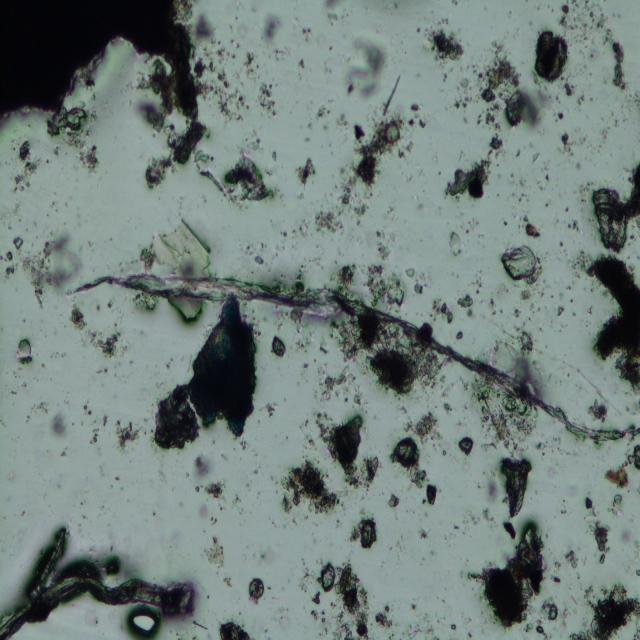Air bubble: (125, 606, 162, 636)
Background material: (0, 0, 204, 124), (467, 520, 549, 627), (581, 253, 640, 396), (338, 317, 440, 397), (335, 113, 408, 217), (469, 46, 538, 153), (192, 15, 248, 122), (314, 412, 380, 489), (468, 379, 539, 450), (145, 121, 209, 190), (313, 562, 371, 638), (591, 166, 640, 255), (138, 218, 212, 276), (564, 585, 640, 639), (224, 131, 276, 208), (26, 230, 80, 304), (277, 457, 341, 519), (152, 382, 199, 450), (390, 438, 436, 504), (496, 326, 540, 391), (366, 263, 424, 310), (70, 304, 121, 356), (417, 14, 465, 66), (243, 51, 279, 119), (348, 33, 384, 100), (580, 495, 612, 566), (442, 158, 496, 200), (503, 244, 545, 298), (534, 25, 570, 85), (557, 0, 604, 45), (498, 452, 530, 518), (313, 366, 363, 408), (234, 233, 284, 273), (398, 405, 442, 445), (294, 207, 346, 238), (49, 111, 93, 147), (191, 454, 224, 502), (11, 138, 40, 192), (602, 448, 640, 489), (609, 36, 632, 98), (195, 149, 225, 192), (286, 304, 310, 352), (348, 512, 378, 550), (80, 403, 106, 445), (334, 255, 364, 290), (402, 603, 431, 639), (369, 221, 392, 263), (552, 206, 584, 236), (112, 419, 142, 449), (479, 464, 499, 508), (4, 235, 23, 278), (217, 617, 255, 638), (261, 10, 283, 46), (569, 251, 593, 283), (372, 602, 396, 631), (445, 225, 463, 262), (521, 215, 543, 244), (79, 145, 101, 174), (204, 537, 224, 568), (297, 157, 319, 184), (441, 372, 455, 414), (49, 408, 67, 440), (16, 336, 34, 366), (432, 300, 455, 323), (410, 100, 426, 132), (413, 518, 433, 543), (458, 293, 476, 320), (247, 576, 265, 603), (610, 489, 626, 519), (589, 398, 607, 424), (269, 331, 287, 357), (540, 598, 560, 621), (456, 432, 474, 457), (548, 556, 564, 582), (293, 24, 315, 42), (322, 1, 340, 23), (560, 132, 576, 156), (560, 83, 578, 101), (565, 545, 579, 568), (501, 520, 517, 538), (316, 101, 330, 121), (387, 490, 401, 510), (258, 402, 275, 418), (452, 327, 463, 341)
Cellulose filter fibre: (67, 270, 630, 451), (0, 524, 196, 634)
Fragment: (188, 295, 258, 436)
